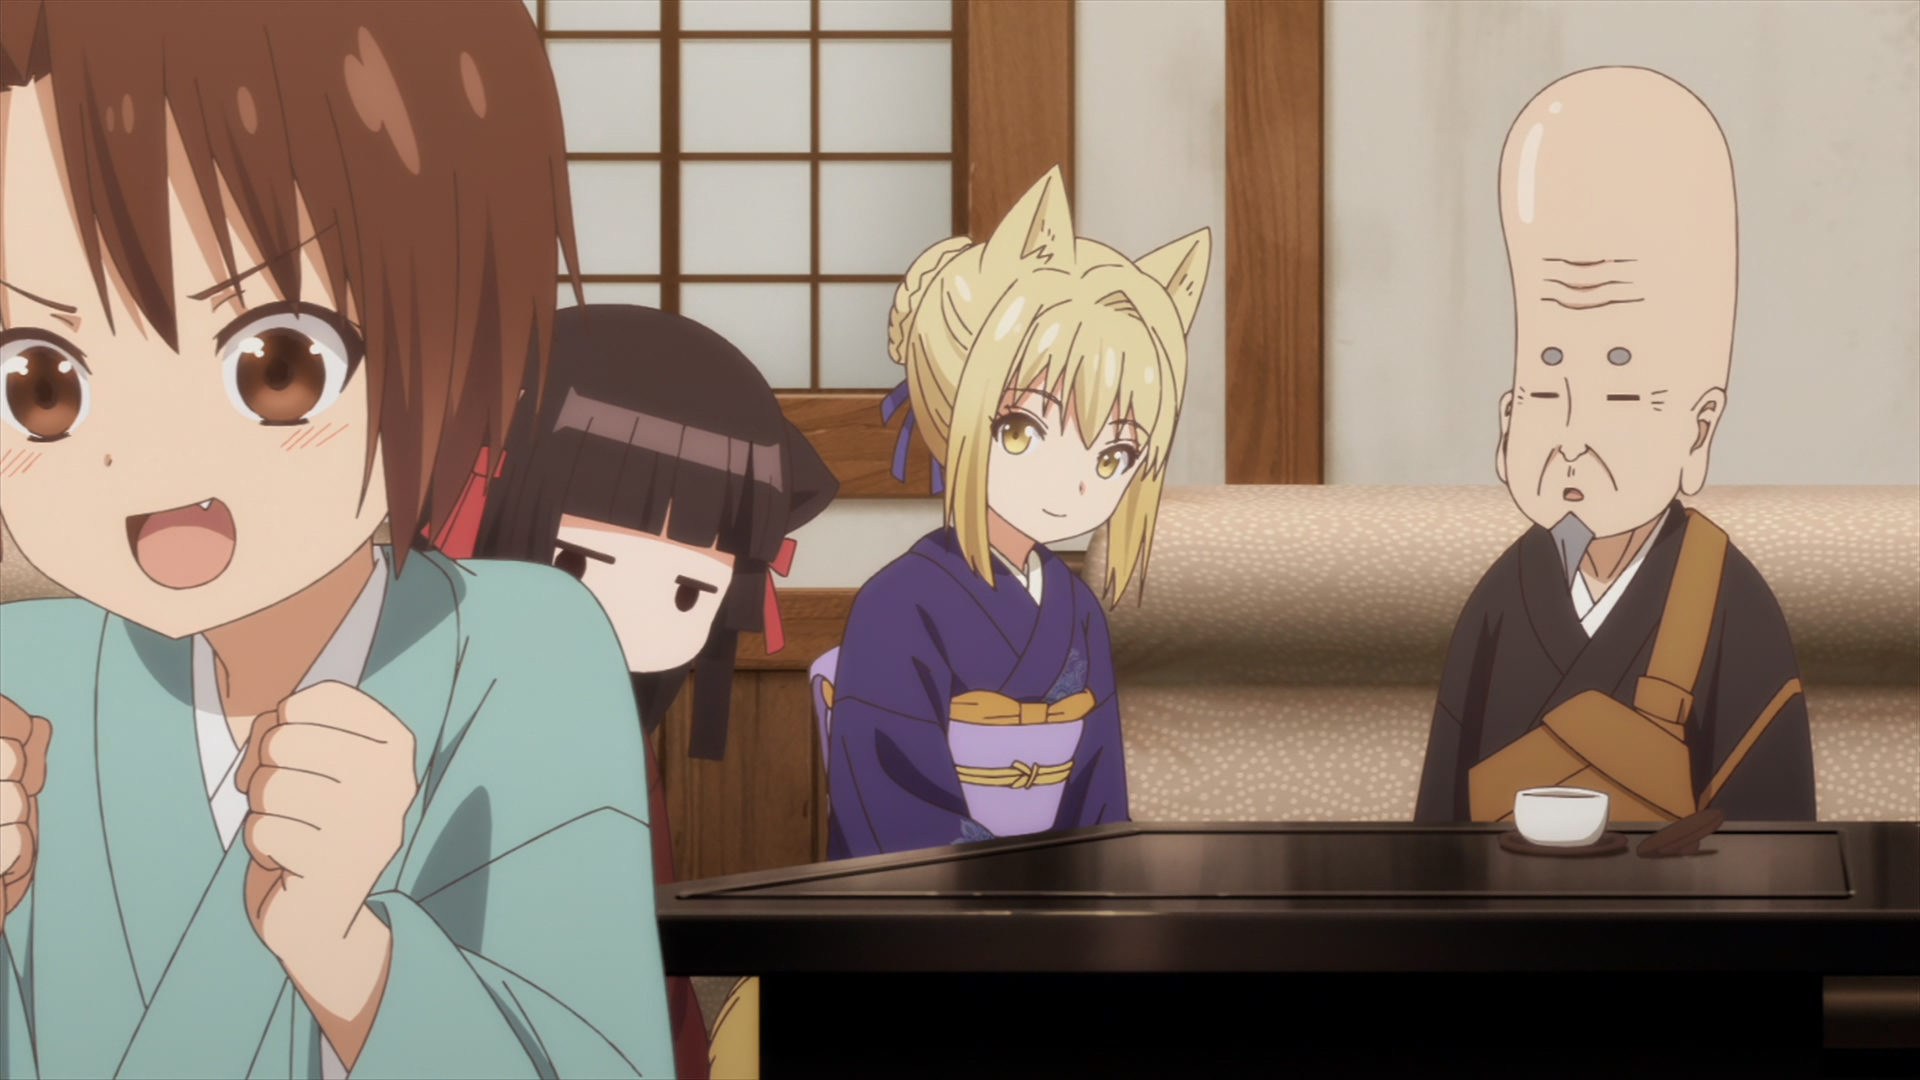其他: (1414, 67, 1817, 823)
枣: (1, 1, 680, 1080)
桐: (808, 165, 1212, 855)
樱: (421, 305, 841, 764)
